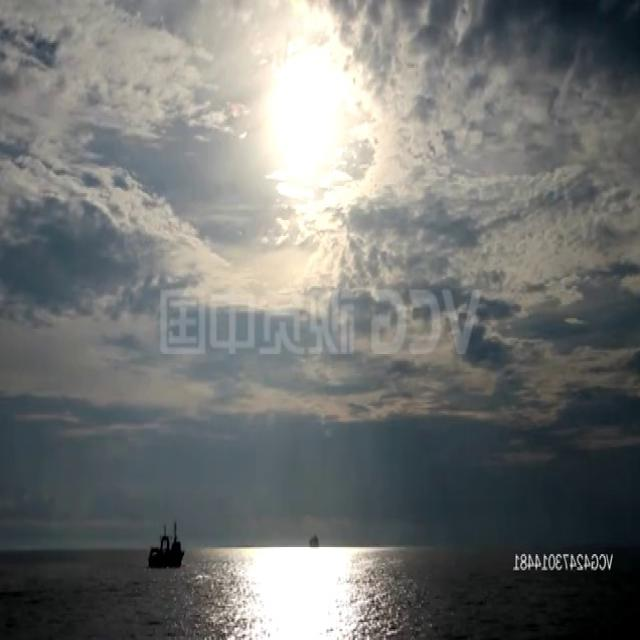fishing boat: (145, 518, 187, 569)
